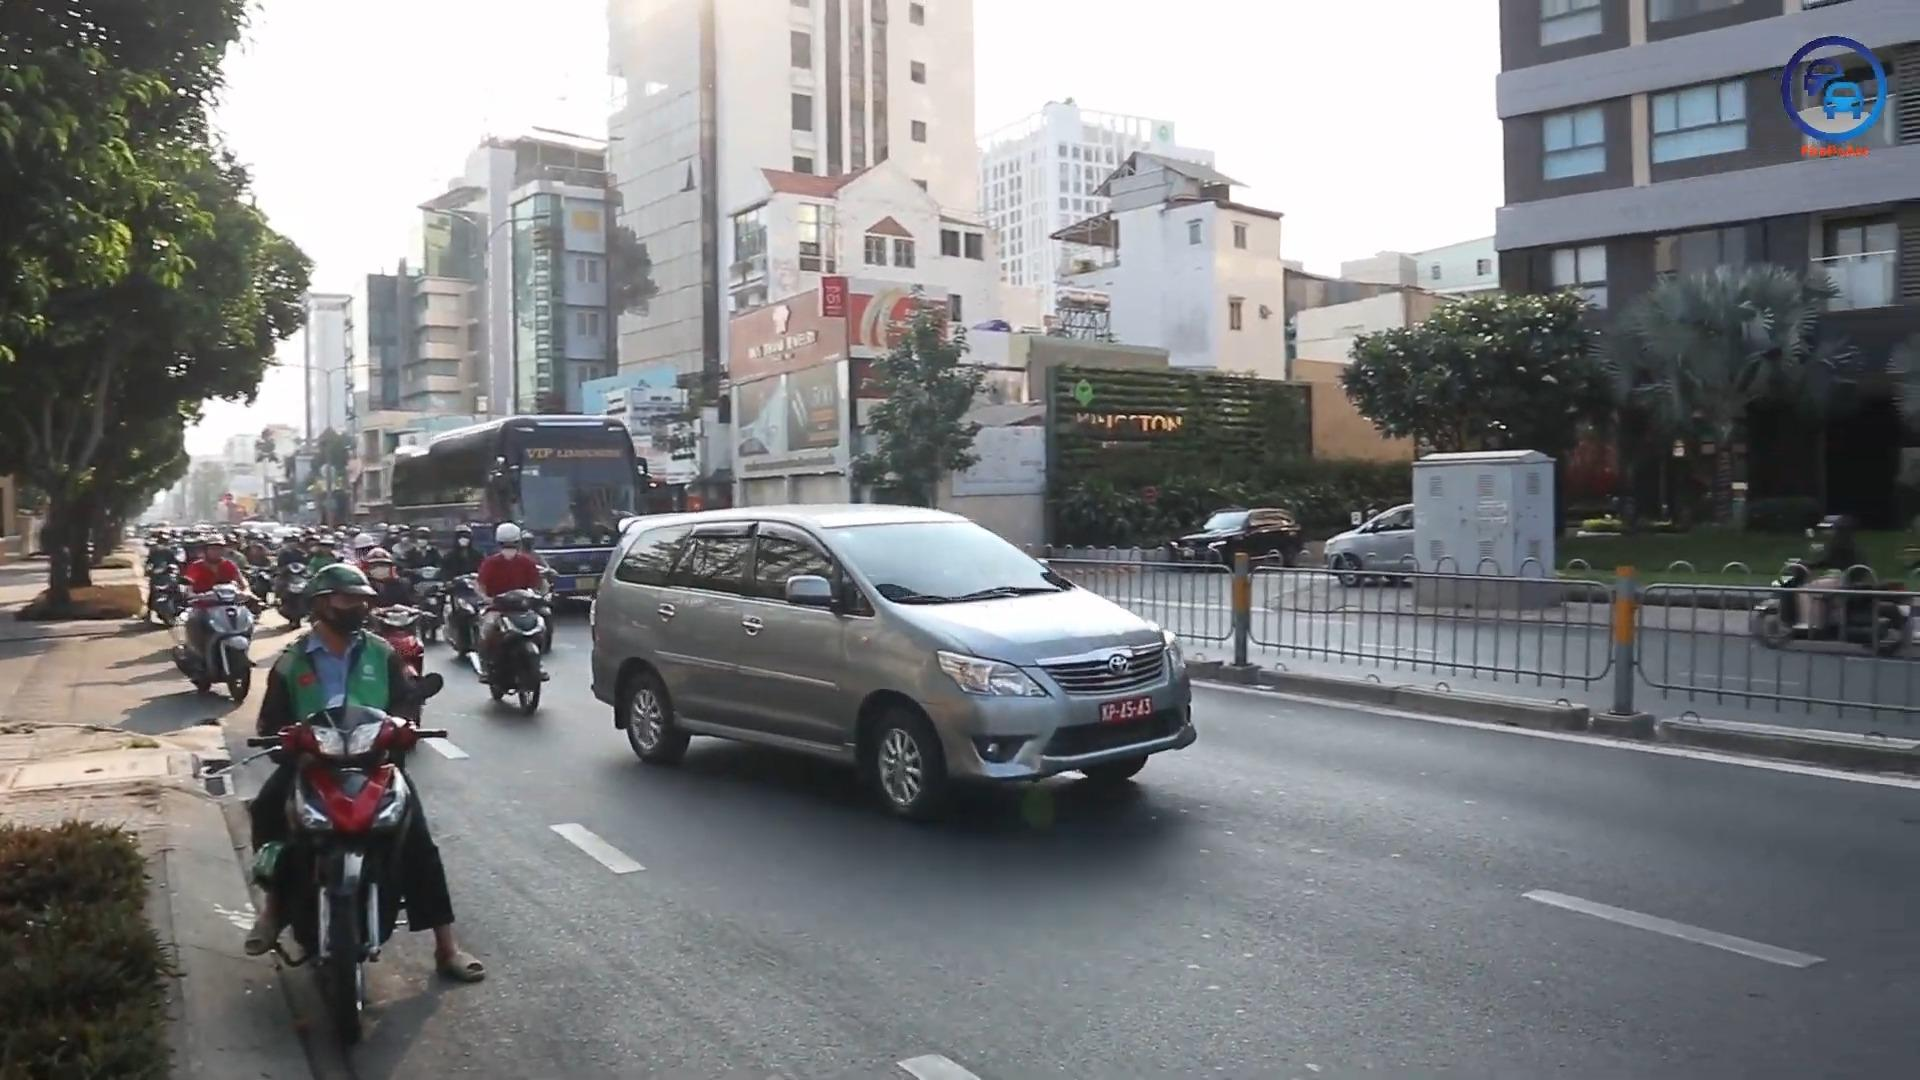bien_so: (1098, 694, 1154, 724)
